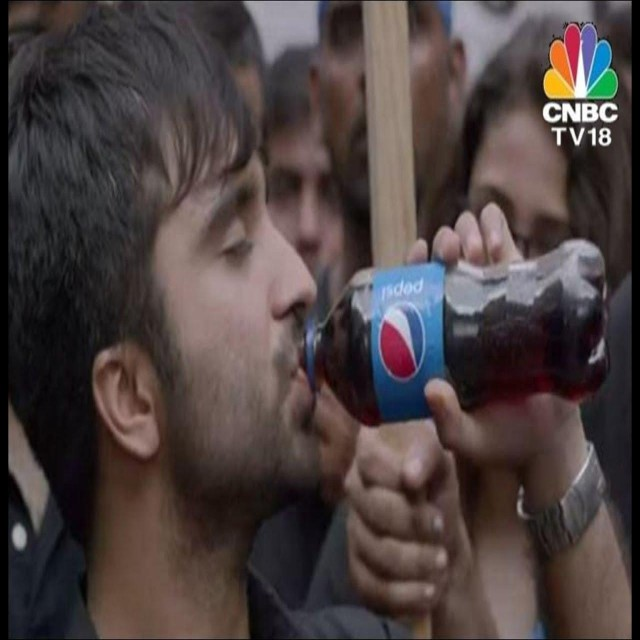pepsi: (378, 299, 425, 386)
